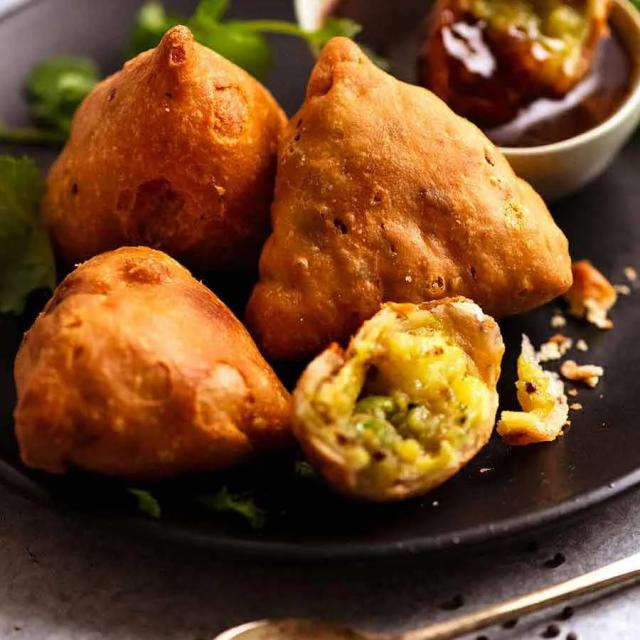SAMOSA: (246, 38, 571, 359), (14, 247, 289, 477), (44, 26, 287, 274), (292, 297, 503, 500)
